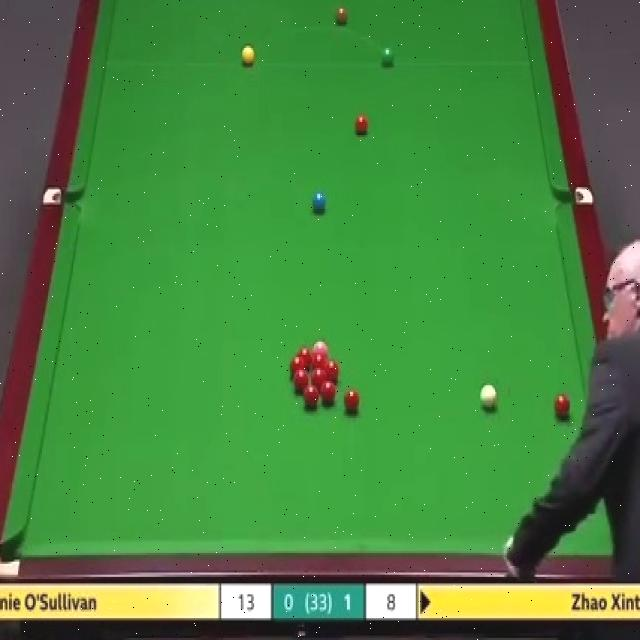blue-ball: (312, 189, 326, 215)
brown-ball: (334, 5, 349, 27)
green-ball: (380, 44, 394, 68)
pink-ball: (313, 339, 328, 358)
red-ball: (554, 392, 570, 421), (353, 112, 369, 137), (312, 366, 328, 389), (344, 388, 359, 412), (320, 381, 335, 404), (304, 386, 318, 410), (290, 354, 304, 377), (294, 369, 308, 392), (326, 360, 341, 381), (298, 347, 311, 369), (312, 356, 326, 368)
white-ball: (479, 384, 497, 410)
yellow-ball: (240, 45, 254, 66)
